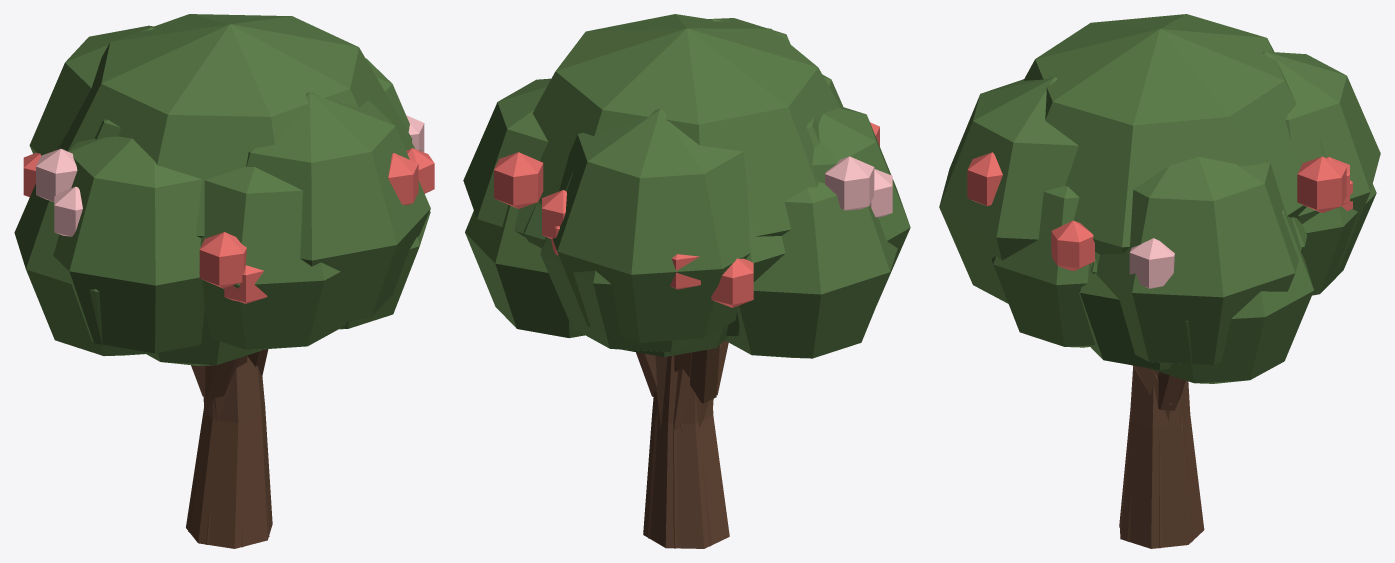
The model's file is tree_apple.glb.
3 renders of one model, left to right at view 1: azimuth 30°, elevation 25°; view 2: azimuth 150°, elevation 25°; view 3: azimuth 270°, elevation 25°, orthographic.
Parts seen in each view (by area): view 1: Apple_low_crown_canopy.002, Apple_round_lobe_canopy.010, Apple_round_lobe_canopy.011, Apple_round_lobe_canopy.003, Apple_short_trunk.002, Apple_round_lobe_canopy.002, Apple_round_lobe_canopy.009, Apple_fruit.016, Apple_round_lobe_canopy.006, Apple_fruit.015, Apple_fruit.017, Apple_fruit.003 (+7 smaller); view 2: Apple_low_crown_canopy.002, Apple_round_lobe_canopy.009, Apple_round_lobe_canopy.002, Apple_short_trunk.002, Apple_round_lobe_canopy.004, Apple_round_lobe_canopy.008, Apple_round_lobe_canopy.001, Apple_round_lobe_canopy.010, Apple_fruit.013, Apple_short_trunk, Apple_fruit.015, Apple_low_crown_canopy (+9 smaller); view 3: Apple_low_crown_canopy.002, Apple_round_lobe_canopy.008, Apple_round_lobe_canopy.011, Apple_short_trunk.002, Apple_round_lobe_canopy.009, Apple_round_lobe_canopy.007, Apple_round_lobe_canopy.004, Apple_round_lobe_canopy.001, Apple_round_lobe_canopy, Apple_fruit.013, Apple_fruit.011, Apple_fruit.012 (+3 smaller).
Boxes of the visible parts, bbox=[...] form: Apple_low_crown_canopy.002: bbox=[59, 14, 412, 237]; Apple_round_lobe_canopy.010: bbox=[53, 136, 204, 353]; Apple_round_lobe_canopy.011: bbox=[246, 92, 430, 325]; Apple_round_lobe_canopy.003: bbox=[199, 166, 346, 349]; Apple_short_trunk.002: bbox=[186, 357, 272, 548]; Apple_round_lobe_canopy.002: bbox=[14, 149, 156, 356]; Apple_round_lobe_canopy.009: bbox=[29, 25, 154, 155]; Apple_fruit.016: bbox=[199, 232, 246, 288]; Apple_round_lobe_canopy.006: bbox=[146, 311, 262, 365]; Apple_fruit.015: bbox=[36, 148, 77, 201]; Apple_fruit.017: bbox=[388, 153, 418, 205]; Apple_fruit.003: bbox=[54, 186, 82, 236]; Apple_low_crown_canopy.002: bbox=[532, 14, 840, 236]; Apple_round_lobe_canopy.009: bbox=[553, 109, 750, 342]; Apple_round_lobe_canopy.002: bbox=[725, 182, 897, 358]; Apple_short_trunk.002: bbox=[643, 355, 729, 548]; Apple_round_lobe_canopy.004: bbox=[465, 205, 584, 338]; Apple_round_lobe_canopy.008: bbox=[463, 78, 550, 237]; Apple_round_lobe_canopy.001: bbox=[540, 172, 701, 352]; Apple_round_lobe_canopy.010: bbox=[812, 106, 910, 301]; Apple_fruit.013: bbox=[494, 152, 543, 208]; Apple_short_trunk: bbox=[648, 369, 713, 548]; Apple_fruit.015: bbox=[825, 156, 874, 210]; Apple_low_crown_canopy: bbox=[726, 117, 819, 336]; Apple_low_crown_canopy.002: bbox=[1023, 14, 1306, 254]; Apple_round_lobe_canopy.008: bbox=[1096, 156, 1301, 364]; Apple_round_lobe_canopy.011: bbox=[939, 77, 1078, 303]; Apple_short_trunk.002: bbox=[1119, 367, 1204, 548]; Apple_round_lobe_canopy.009: bbox=[1262, 51, 1380, 267]; Apple_round_lobe_canopy.007: bbox=[991, 186, 1094, 347]; Apple_round_lobe_canopy.004: bbox=[1150, 209, 1313, 383]; Apple_round_lobe_canopy.001: bbox=[1301, 139, 1376, 295]; Apple_round_lobe_canopy: bbox=[1078, 252, 1170, 369]; Apple_fruit.013: bbox=[1297, 156, 1346, 212]; Apple_fruit.011: bbox=[1051, 220, 1094, 270]; Apple_fruit.012: bbox=[1129, 238, 1174, 288].
Size of the model in its own units: 1.85 by 2.25 by 1.79.
